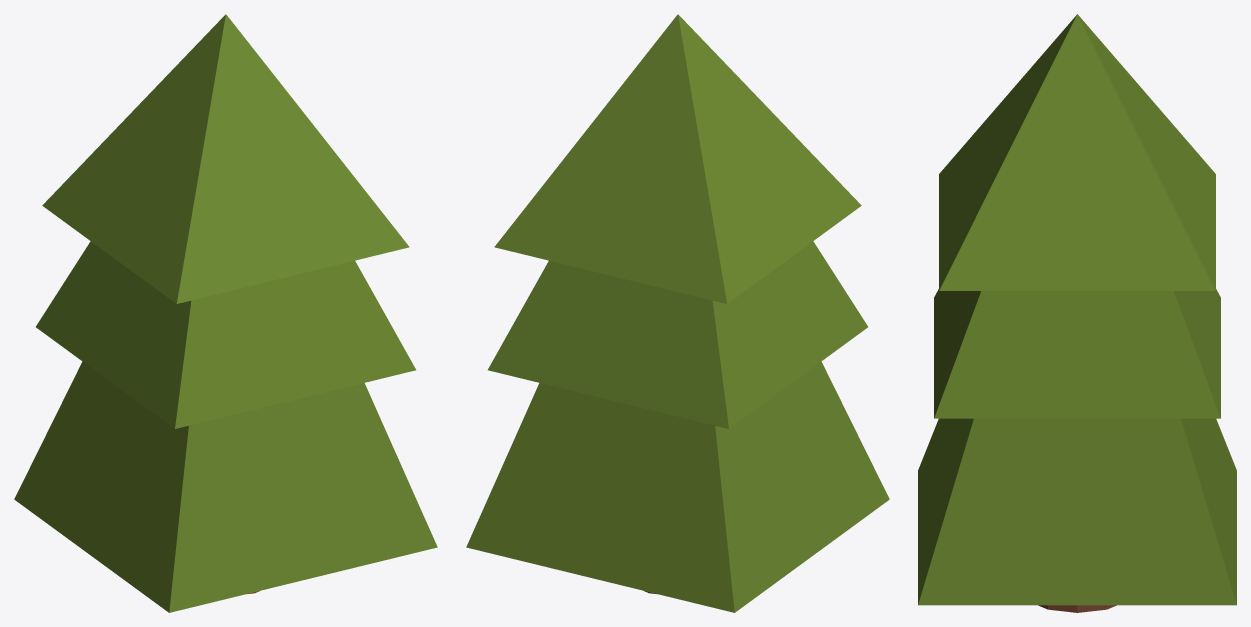
File: Tree_18_autumn_mat.fbx
3 renders of one model, left to right at view 1: azimuth 30°, elevation 25°; view 2: azimuth 150°, elevation 25°; view 3: azimuth 270°, elevation 25°, orthographic. The views are drawn at different scales.
Parts seen in each view (by area): view 1: Tree_18_autumn_mat; view 2: Tree_18_autumn_mat; view 3: Tree_18_autumn_mat.
Boxes of the visible parts, box(x1,y1,x2,y2) form: Tree_18_autumn_mat: box(14, 14, 437, 612); Tree_18_autumn_mat: box(466, 14, 889, 612); Tree_18_autumn_mat: box(918, 14, 1236, 612).
Size of the model in its own units: 3.84 by 7.62 by 3.84.
